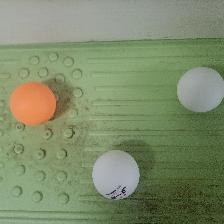WhiteBall: (90, 149, 139, 200), (176, 66, 224, 112)
YellowBall: (9, 81, 55, 124)
